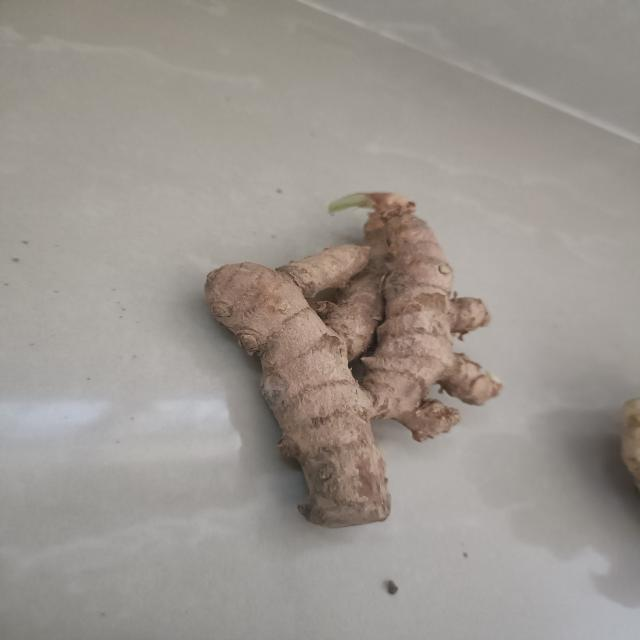ginger: (202, 188, 509, 537)
